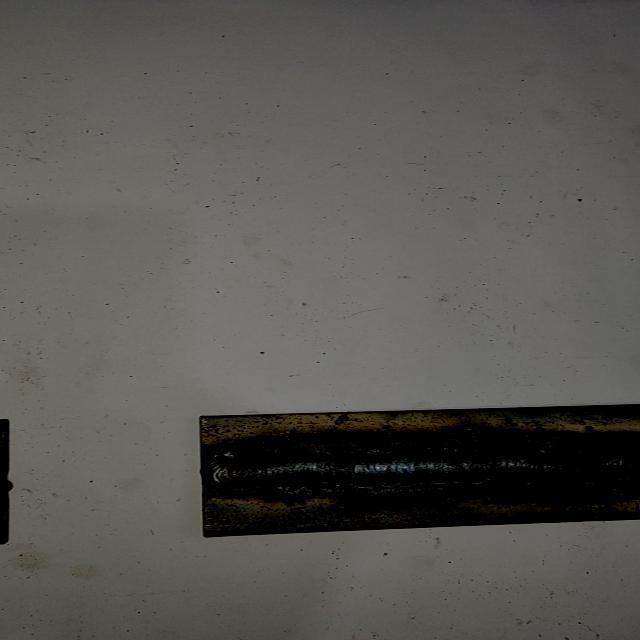Welding Line: (210, 446, 640, 488)
Workpiece: (190, 397, 640, 541)
